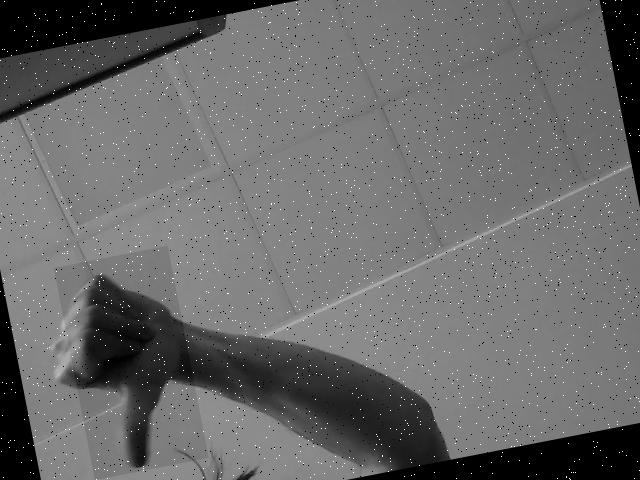bad: (54, 245, 208, 480)
